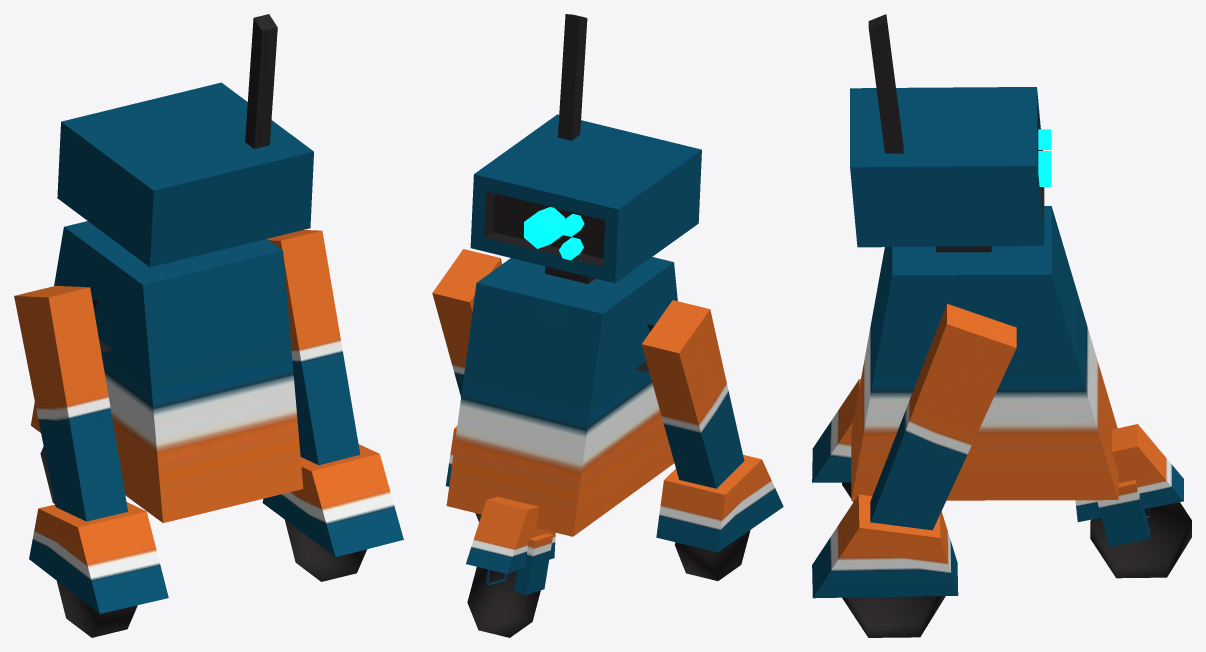
The model's file is Robot.fbx.
3 views of the same model, side by side, from view 1: azimuth 30°, elevation 25°; view 2: azimuth 150°, elevation 25°; view 3: azimuth 270°, elevation 25° (orthographic). The views are drawn at different scales.
Parts seen in each view (by area): view 1: Roboto.001, Roboto.002; view 2: Roboto.001, Roboto.002; view 3: Roboto.001, Roboto.002.
Boxes of the visible parts, left/top/right/bottom form: Roboto.001: left=14, top=14, right=403, bottom=613; Roboto.002: left=40, top=447, right=366, bottom=637; Roboto.001: left=432, top=14, right=783, bottom=594; Roboto.002: left=467, top=513, right=750, bottom=637; Roboto.001: left=812, top=14, right=1183, bottom=598; Roboto.002: left=842, top=482, right=1191, bottom=637.
Size of the model in its own units: 45.21 by 81.3 by 48.46.
